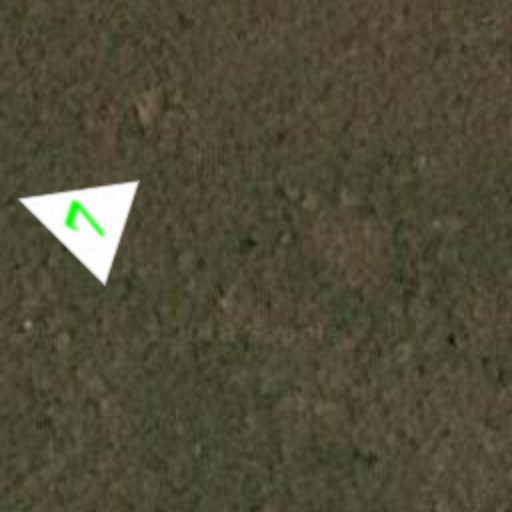triangle: (0, 146, 140, 286)
